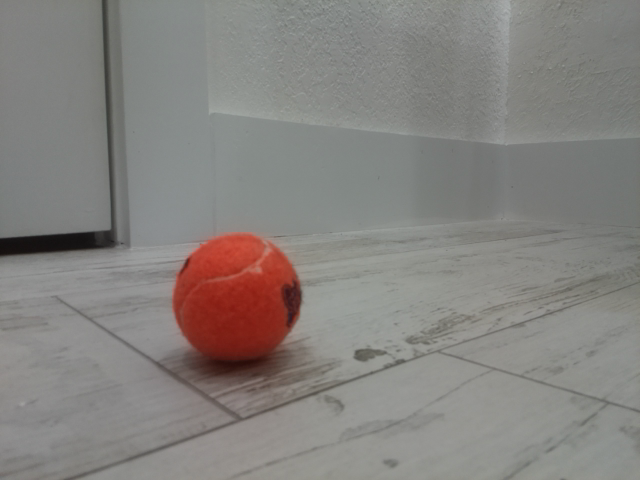orange-ball: (171, 231, 302, 366)
